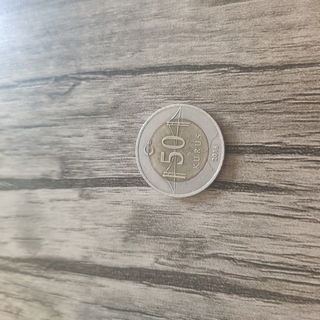50KURUS: (133, 101, 226, 199)
